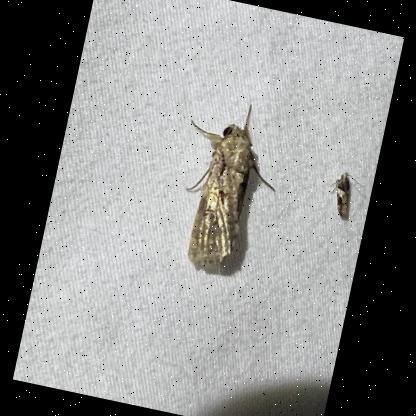Fall Armyworm Moth: (160, 90, 296, 279)
